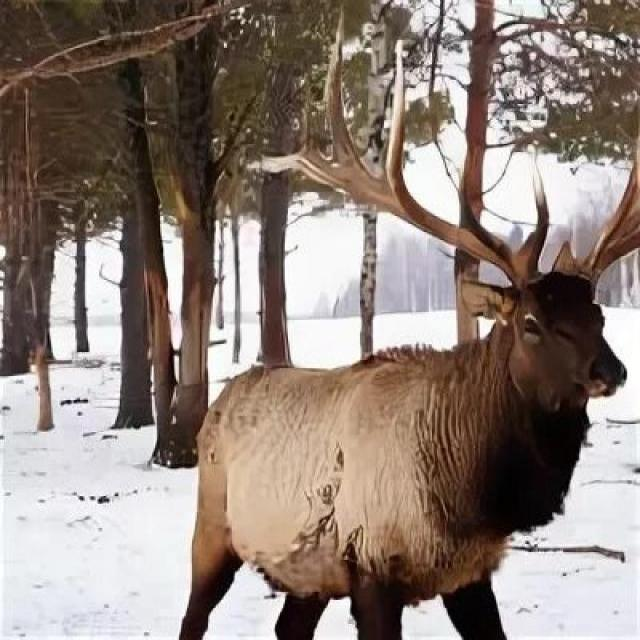deer: (111, 173, 640, 640)
